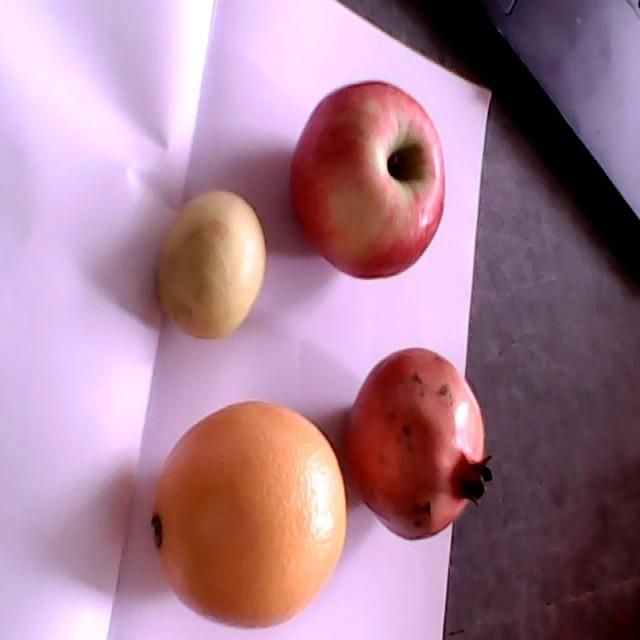apple: (288, 81, 445, 280)
lemon: (157, 186, 266, 340)
orange: (150, 401, 347, 630)
pomegranate: (348, 347, 493, 539)
